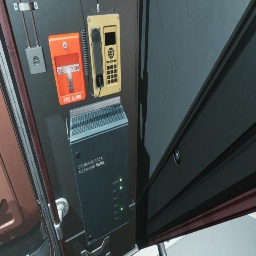EmergencyPhone ,: (80, 0, 121, 98)
FireAlarm ,: (48, 32, 86, 105)
